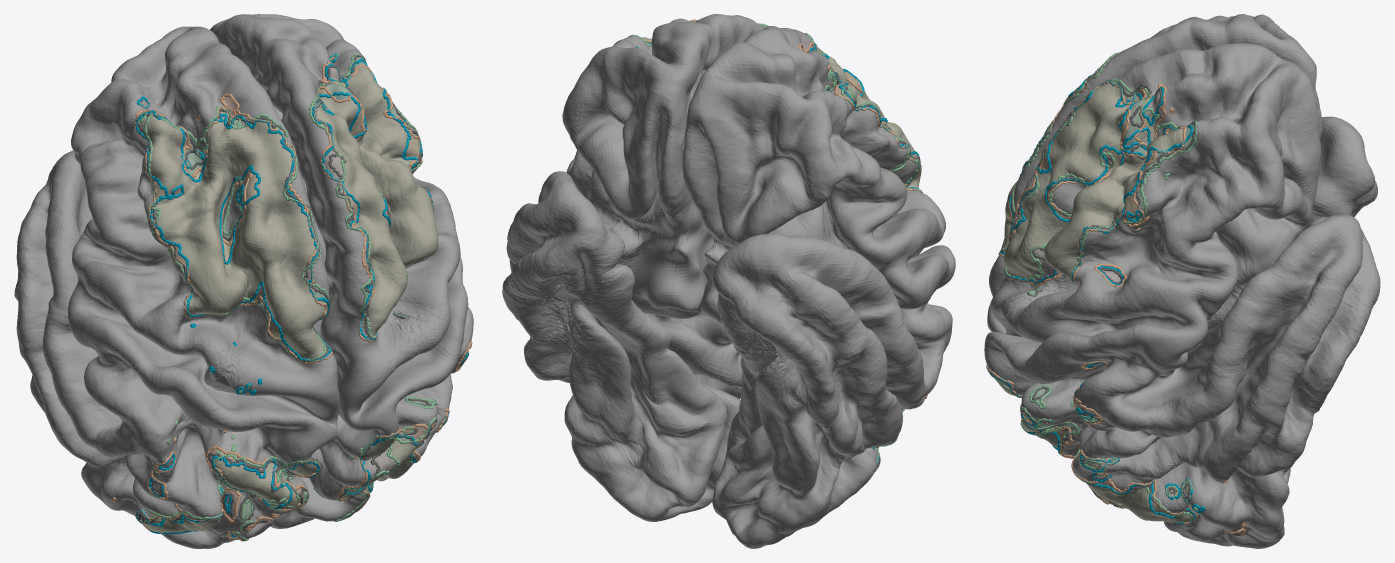
Rendered from full_putamen_composite_marginal.glb.
3 renders of one model, left to right at view 1: azimuth 30°, elevation 25°; view 2: azimuth 150°, elevation 25°; view 3: azimuth 270°, elevation 25°, orthographic. The views are drawn at different scales.
Visible parts, largest first — view 1: world; view 2: world; view 3: world.
Boxes of the visible parts, box(x1,y1,x2,y2) form: world: box(14, 14, 473, 548); world: box(502, 14, 955, 548); world: box(984, 14, 1380, 548).
Size of the model in its own units: 139 by 174 by 127.
